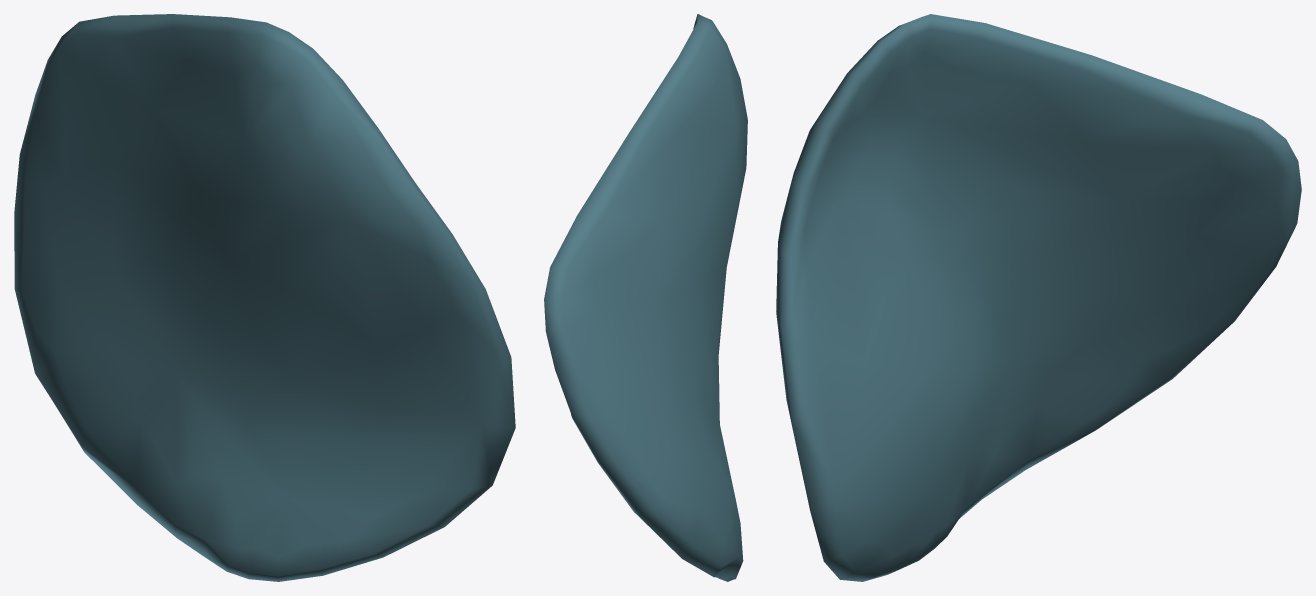
The model's file is Brachioradialis_muscle_on_radial_styloid_process.r_Generated_Me.glb.
3 views of the same model, side by side, from view 1: azimuth 30°, elevation 25°; view 2: azimuth 150°, elevation 25°; view 3: azimuth 270°, elevation 25° (orthographic).
Visible parts, largest first — view 1: Brachioradialis_muscle_on_radial_styloid_process.r_Generated; view 2: Brachioradialis_muscle_on_radial_styloid_process.r_Generated; view 3: Brachioradialis_muscle_on_radial_styloid_process.r_Generated.
Part boxes in pixels (x1,y1,x2,y2): Brachioradialis_muscle_on_radial_styloid_process.r_Generated: (14,14,515,581); Brachioradialis_muscle_on_radial_styloid_process.r_Generated: (544,14,747,581); Brachioradialis_muscle_on_radial_styloid_process.r_Generated: (776,14,1301,581).
Size of the model in its own units: 0.0058 by 0.0101 by 0.00875.
